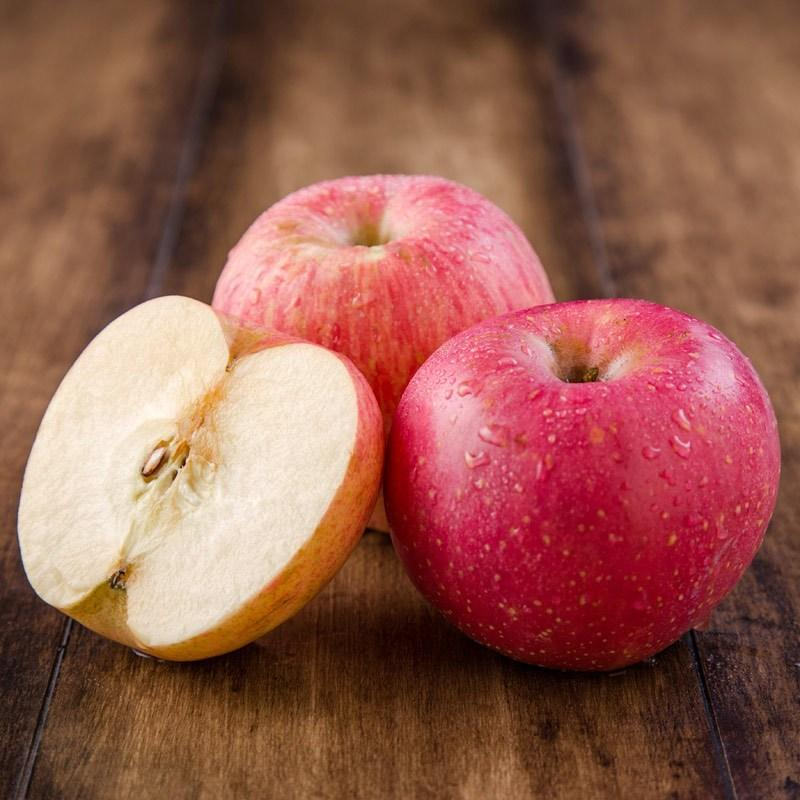apple: (383, 293, 785, 678), (210, 169, 556, 426)
